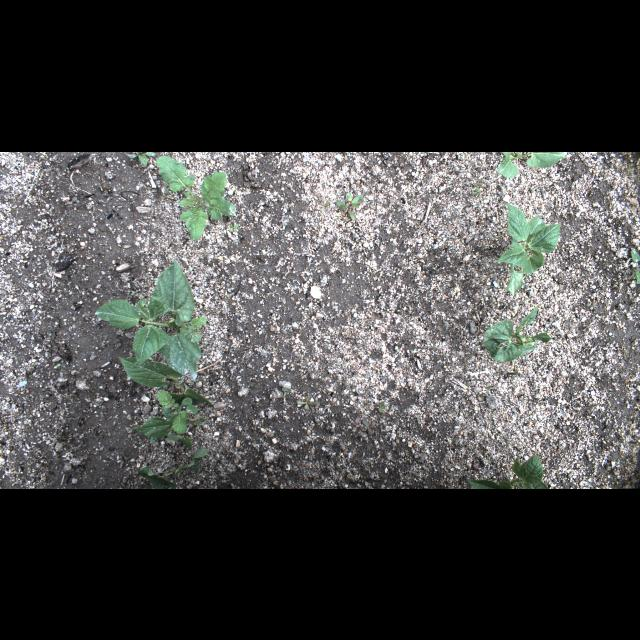crop: (95, 258, 202, 382), (494, 200, 562, 296), (118, 356, 216, 406), (483, 303, 551, 362), (136, 448, 208, 488), (466, 454, 548, 488), (131, 414, 207, 448), (497, 152, 567, 178)
weed: (156, 154, 234, 240), (156, 390, 198, 434), (334, 190, 364, 220), (178, 316, 208, 342), (126, 151, 156, 163), (630, 248, 640, 284), (296, 396, 318, 410), (469, 180, 486, 198), (360, 418, 376, 436), (377, 401, 388, 414), (228, 222, 238, 232), (282, 387, 292, 397), (320, 200, 328, 210), (162, 183, 170, 193), (587, 298, 595, 306), (54, 362, 60, 368), (131, 292, 139, 296), (627, 168, 633, 172)
